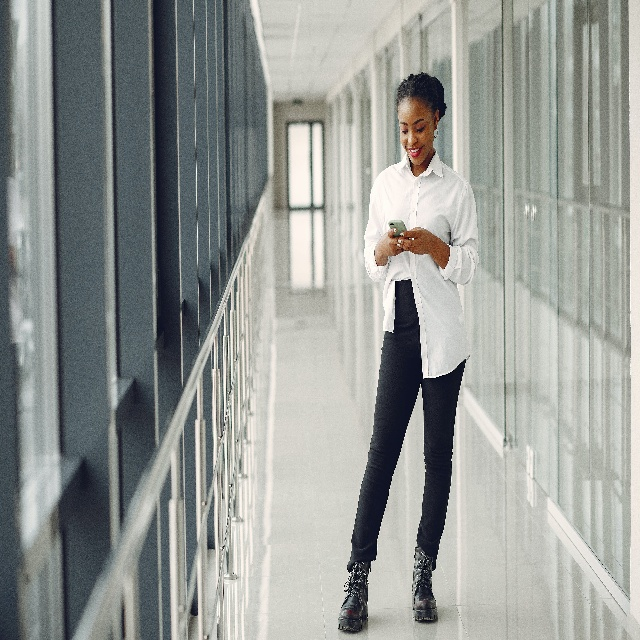Sin_guantes: (396, 223, 429, 256), (379, 228, 406, 257)
